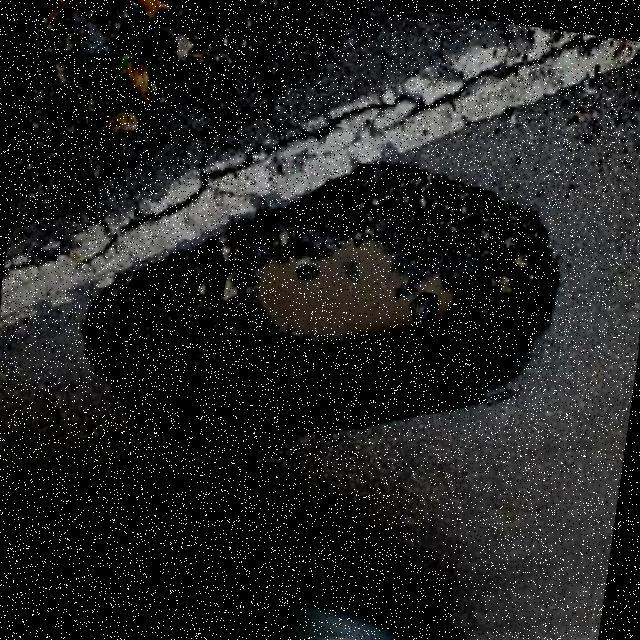Pothole: (82, 159, 561, 457)
